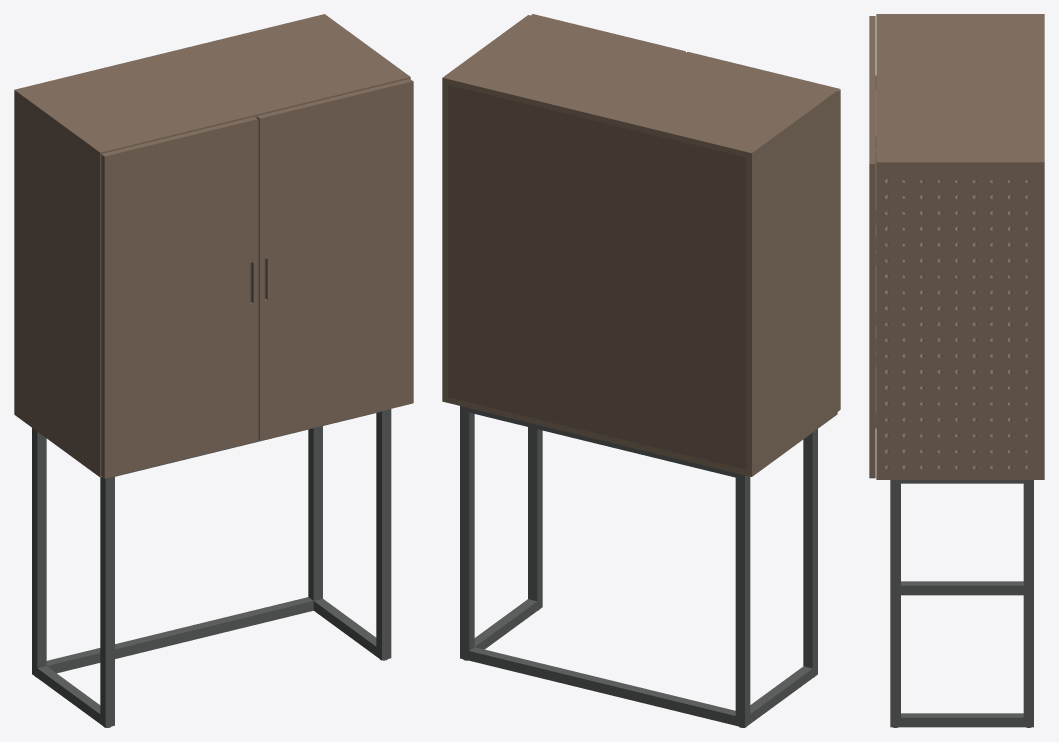
The model's file is closed.glb.
3 renders of one model, left to right at view 1: azimuth 30°, elevation 25°; view 2: azimuth 150°, elevation 25°; view 3: azimuth 270°, elevation 25°, orthographic. The views are drawn at different scales.
Visible parts, largest first — view 1: B30-door, B31-door, B02-left-side, B01-top, A0-post-1-0, A2-low-rear, A0-post-0-0, A0-post-0-1, A0-post-1-1, A2-low-depth-0, A2-low-depth-1; view 2: B04-back, B02-left-side, B01-top, A2-low-rear, A0-post-0-1, A0-post-1-1, A0-post-0-0, A0-post-1-0, B00-bottom, B03-right-pegboard, B30-door, A1-width-1 (+2 smaller); view 3: B03-right-pegboard, B01-top, B31-door, A0-post-1-0, A0-post-1-1, A2-low-depth-0, A2-low-depth-1, B00-bottom, A1-depth-1, B30-door.
Part boxes in pixels (x1,y1,x2,y2): B30-door: [101, 117, 258, 478]; B31-door: [256, 79, 413, 440]; B02-left-side: [14, 96, 101, 471]; B01-top: [14, 14, 410, 158]; A0-post-1-0: [376, 409, 391, 660]; A2-low-rear: [46, 597, 313, 673]; A0-post-0-0: [100, 477, 114, 727]; A0-post-0-1: [32, 428, 46, 677]; A0-post-1-1: [308, 426, 322, 600]; A2-low-depth-0: [37, 666, 100, 723]; A2-low-depth-1: [313, 598, 376, 655]; B04-back: [448, 85, 746, 469]; B02-left-side: [746, 96, 837, 471]; B01-top: [442, 15, 837, 158]; A2-low-rear: [469, 647, 735, 725]; A0-post-0-1: [735, 476, 750, 727]; A0-post-1-1: [460, 410, 474, 660]; A0-post-0-0: [803, 429, 817, 677]; A0-post-1-0: [528, 427, 542, 610]; B00-bottom: [442, 396, 837, 476]; B03-right-pegboard: [442, 83, 447, 396]; B30-door: [686, 52, 840, 411]; A1-width-1: [469, 408, 735, 477]; B03-right-pegboard: [876, 168, 1044, 474]; B01-top: [876, 14, 1044, 167]; B31-door: [869, 90, 875, 478]; A0-post-1-0: [890, 483, 900, 727]; A0-post-1-1: [1023, 483, 1033, 727]; A2-low-depth-0: [901, 581, 1023, 595]; A2-low-depth-1: [901, 713, 1023, 727]; B00-bottom: [876, 338, 1044, 479]; A1-depth-1: [890, 480, 1033, 483]; B30-door: [869, 16, 875, 89].
Size of the model in its own units: 1 by 1.8 by 0.5.
